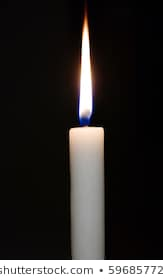Fire: (77, 6, 94, 124)
